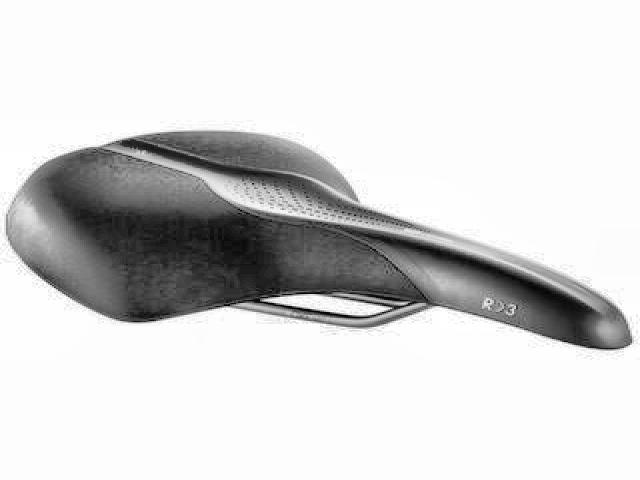saddle: (7, 129, 633, 353)
